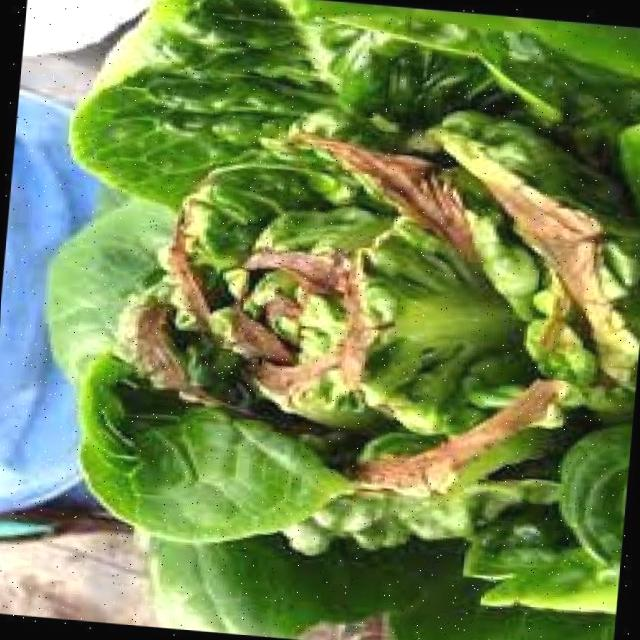Lettuce Mosaic Virus: (107, 86, 640, 539)
